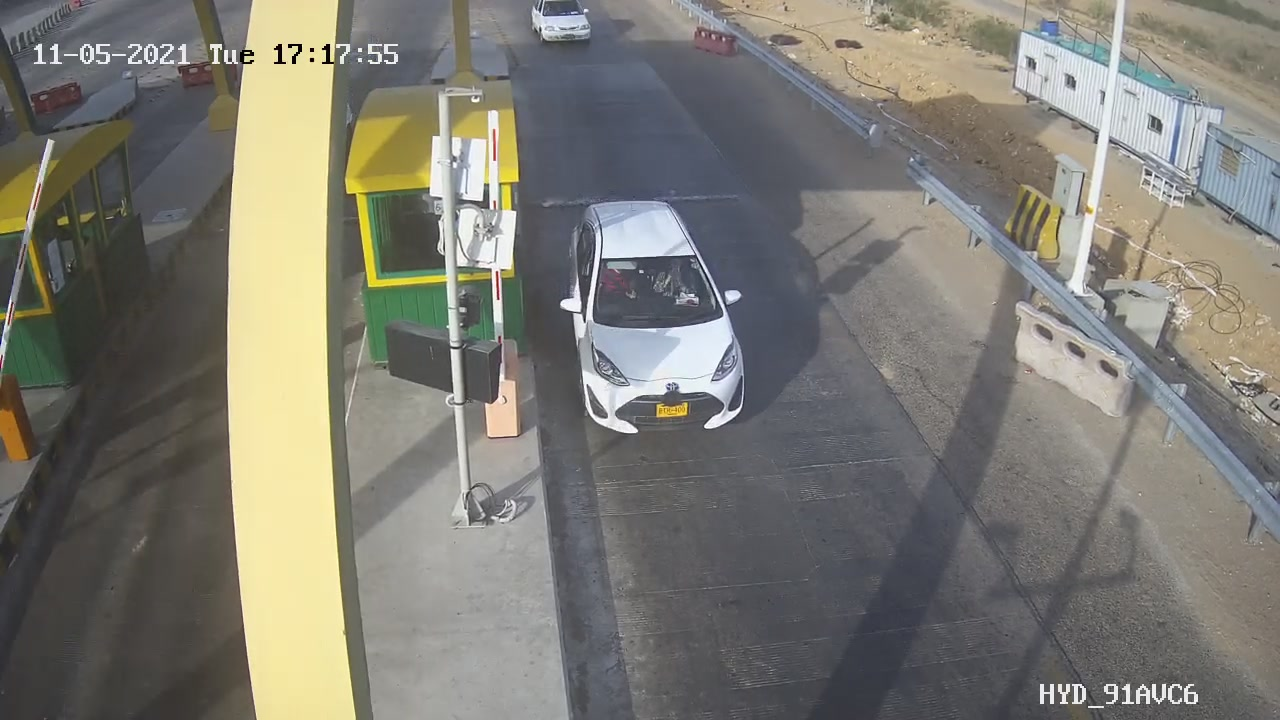F1: (542, 183, 769, 453)
